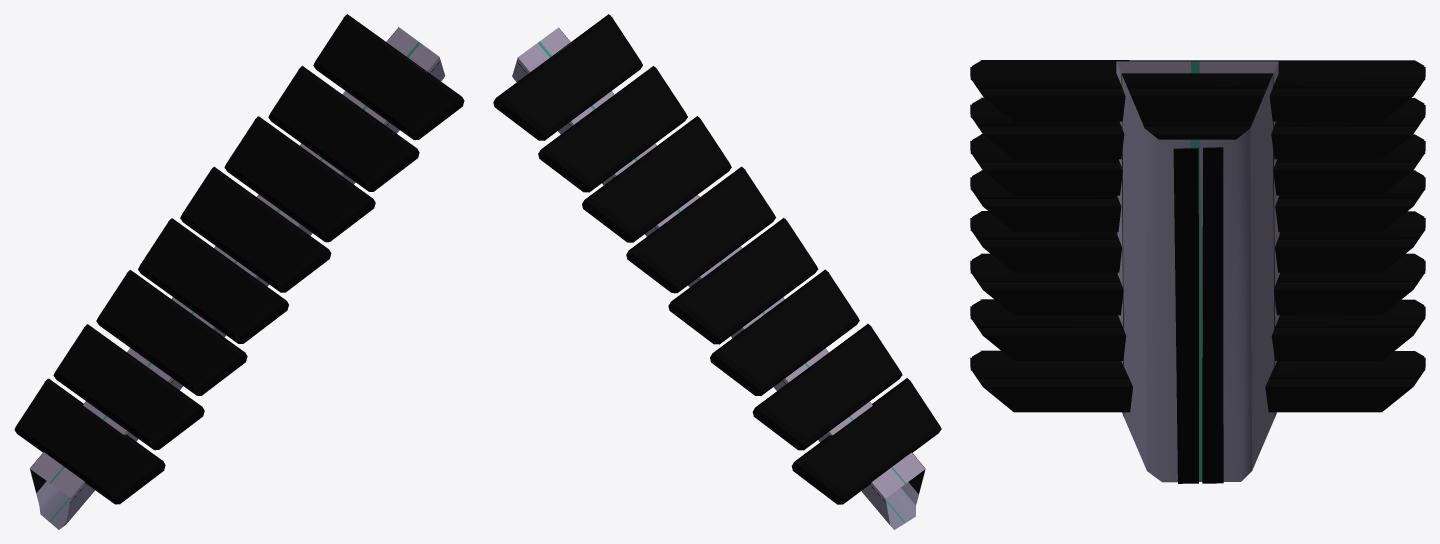
Rendered from Rooms_Paradise_PlatformStairs02_Art.fbx.
3 renders of one model, left to right at view 1: azimuth 30°, elevation 25°; view 2: azimuth 150°, elevation 25°; view 3: azimuth 270°, elevation 25°, orthographic. The views are drawn at different scales.
Visible parts, largest first — view 1: Rooms_Paradise_PlatformStairs02_Outliner, Rooms_Paradise_PlatformStairs02_Shadows, Rooms_Paradise_PlatformStairs02_Support02; view 2: Rooms_Paradise_PlatformStairs02_Outliner, Rooms_Paradise_PlatformStairs02_Shadows, Rooms_Paradise_PlatformStairs02_Support02; view 3: Rooms_Paradise_PlatformStairs02_Outliner, Rooms_Paradise_PlatformStairs02_Support02, Rooms_Paradise_PlatformStairs02_Support02_Shadows, Rooms_Paradise_PlatformStairs02_Shadows.
Boxes of the visible parts, <box> form: Rooms_Paradise_PlatformStairs02_Outliner: <box>14,14,463,504</box>; Rooms_Paradise_PlatformStairs02_Shadows: <box>14,14,464,503</box>; Rooms_Paradise_PlatformStairs02_Support02: <box>29,27,445,529</box>; Rooms_Paradise_PlatformStairs02_Outliner: <box>493,15,941,504</box>; Rooms_Paradise_PlatformStairs02_Shadows: <box>493,14,939,504</box>; Rooms_Paradise_PlatformStairs02_Support02: <box>512,27,925,529</box>; Rooms_Paradise_PlatformStairs02_Outliner: <box>972,60,1424,412</box>; Rooms_Paradise_PlatformStairs02_Support02: <box>1116,61,1279,482</box>; Rooms_Paradise_PlatformStairs02_Support02_Shadows: <box>1173,147,1223,483</box>; Rooms_Paradise_PlatformStairs02_Shadows: <box>970,60,1425,370</box>.
Bounding box in the file's own units: 457 × 443 × 234.
